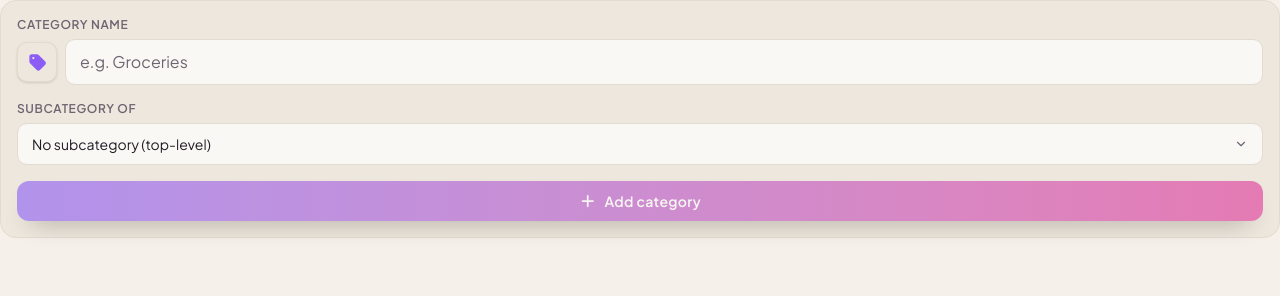
Test case: TagCreateMode › clears the name after a successful add (keeping it ready for the next)
Type "Travel" into the field named "Category name" at [664, 62], box [66, 40, 1262, 84]
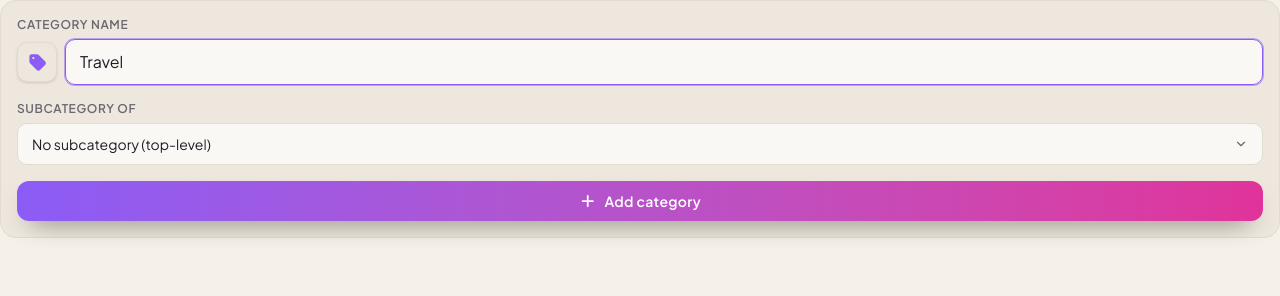
Click the button "Add category" at [640, 201], box [17, 181, 1263, 221]
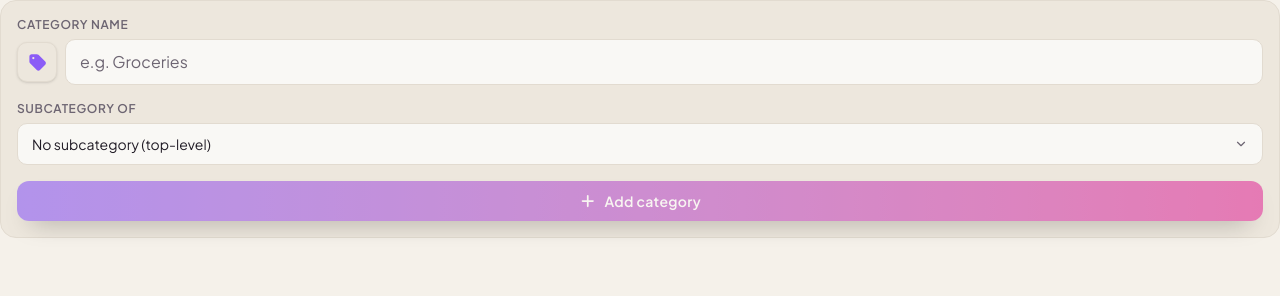
Check: the field named "Category name" is empty, box [66, 40, 1262, 84]
// The added tag now becomes a selectable parent for the next one.
Click the button "No subcategory (top-level)" at [121, 144], box [32, 134, 1248, 154]
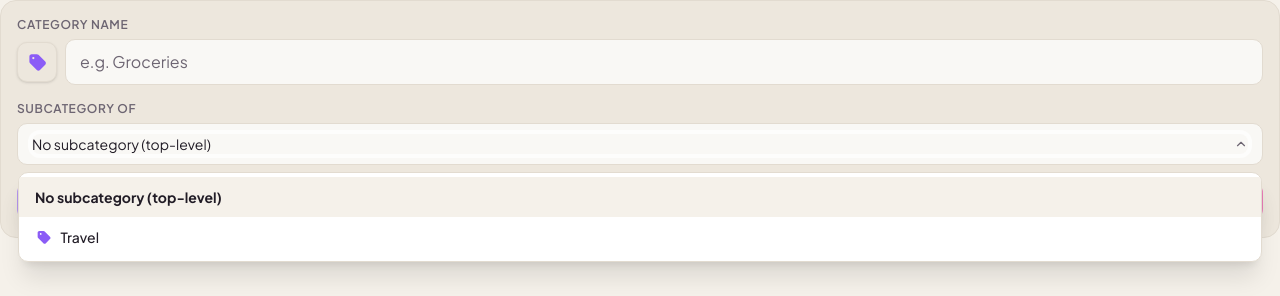
Check: the button "Travel" is shown, box [19, 217, 1261, 257]
